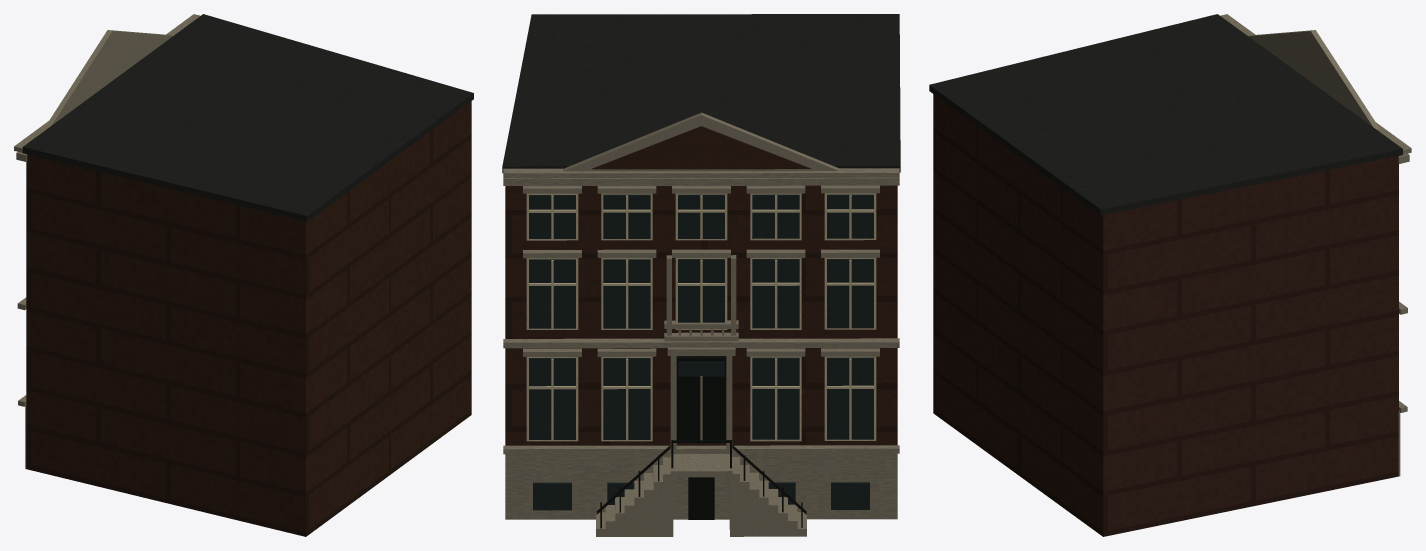
3 renders of one model, left to right at view 1: azimuth 30°, elevation 25°; view 2: azimuth 150°, elevation 25°; view 3: azimuth 270°, elevation 25°, orthographic. The views are drawn at different scales.
Parts seen in each view (by area): view 1: rusthuis-haringvliet-0, rusthuis-haringvliet-1, rusthuis-haringvliet-3; view 2: rusthuis-haringvliet-3, rusthuis-haringvliet-1, rusthuis-haringvliet-5, rusthuis-haringvliet-0, rusthuis-haringvliet-4, rusthuis-haringvliet-2; view 3: rusthuis-haringvliet-0, rusthuis-haringvliet-1, rusthuis-haringvliet-3.
Part boxes in pixels (x1=…): rusthuis-haringvliet-0: x1=26, y1=101, x2=471, y2=536; rusthuis-haringvliet-1: x1=22, y1=14, x2=473, y2=221; rusthuis-haringvliet-3: x1=14, y1=14, x2=200, y2=468; rusthuis-haringvliet-3: x1=503, y1=112, x2=899, y2=536; rusthuis-haringvliet-1: x1=502, y1=14, x2=900, y2=173; rusthuis-haringvliet-5: x1=529, y1=194, x2=873, y2=510; rusthuis-haringvliet-0: x1=505, y1=126, x2=897, y2=445; rusthuis-haringvliet-4: x1=526, y1=193, x2=876, y2=441; rusthuis-haringvliet-2: x1=596, y1=356, x2=806, y2=528; rusthuis-haringvliet-0: x1=933, y1=94, x2=1398, y2=536; rusthuis-haringvliet-1: x1=929, y1=14, x2=1402, y2=215; rusthuis-haringvliet-3: x1=1220, y1=14, x2=1411, y2=476.
Bounding box in the file's own units: 16.31 × 14.57 × 16.85.
Materials: 6 (6 with a texture image).
